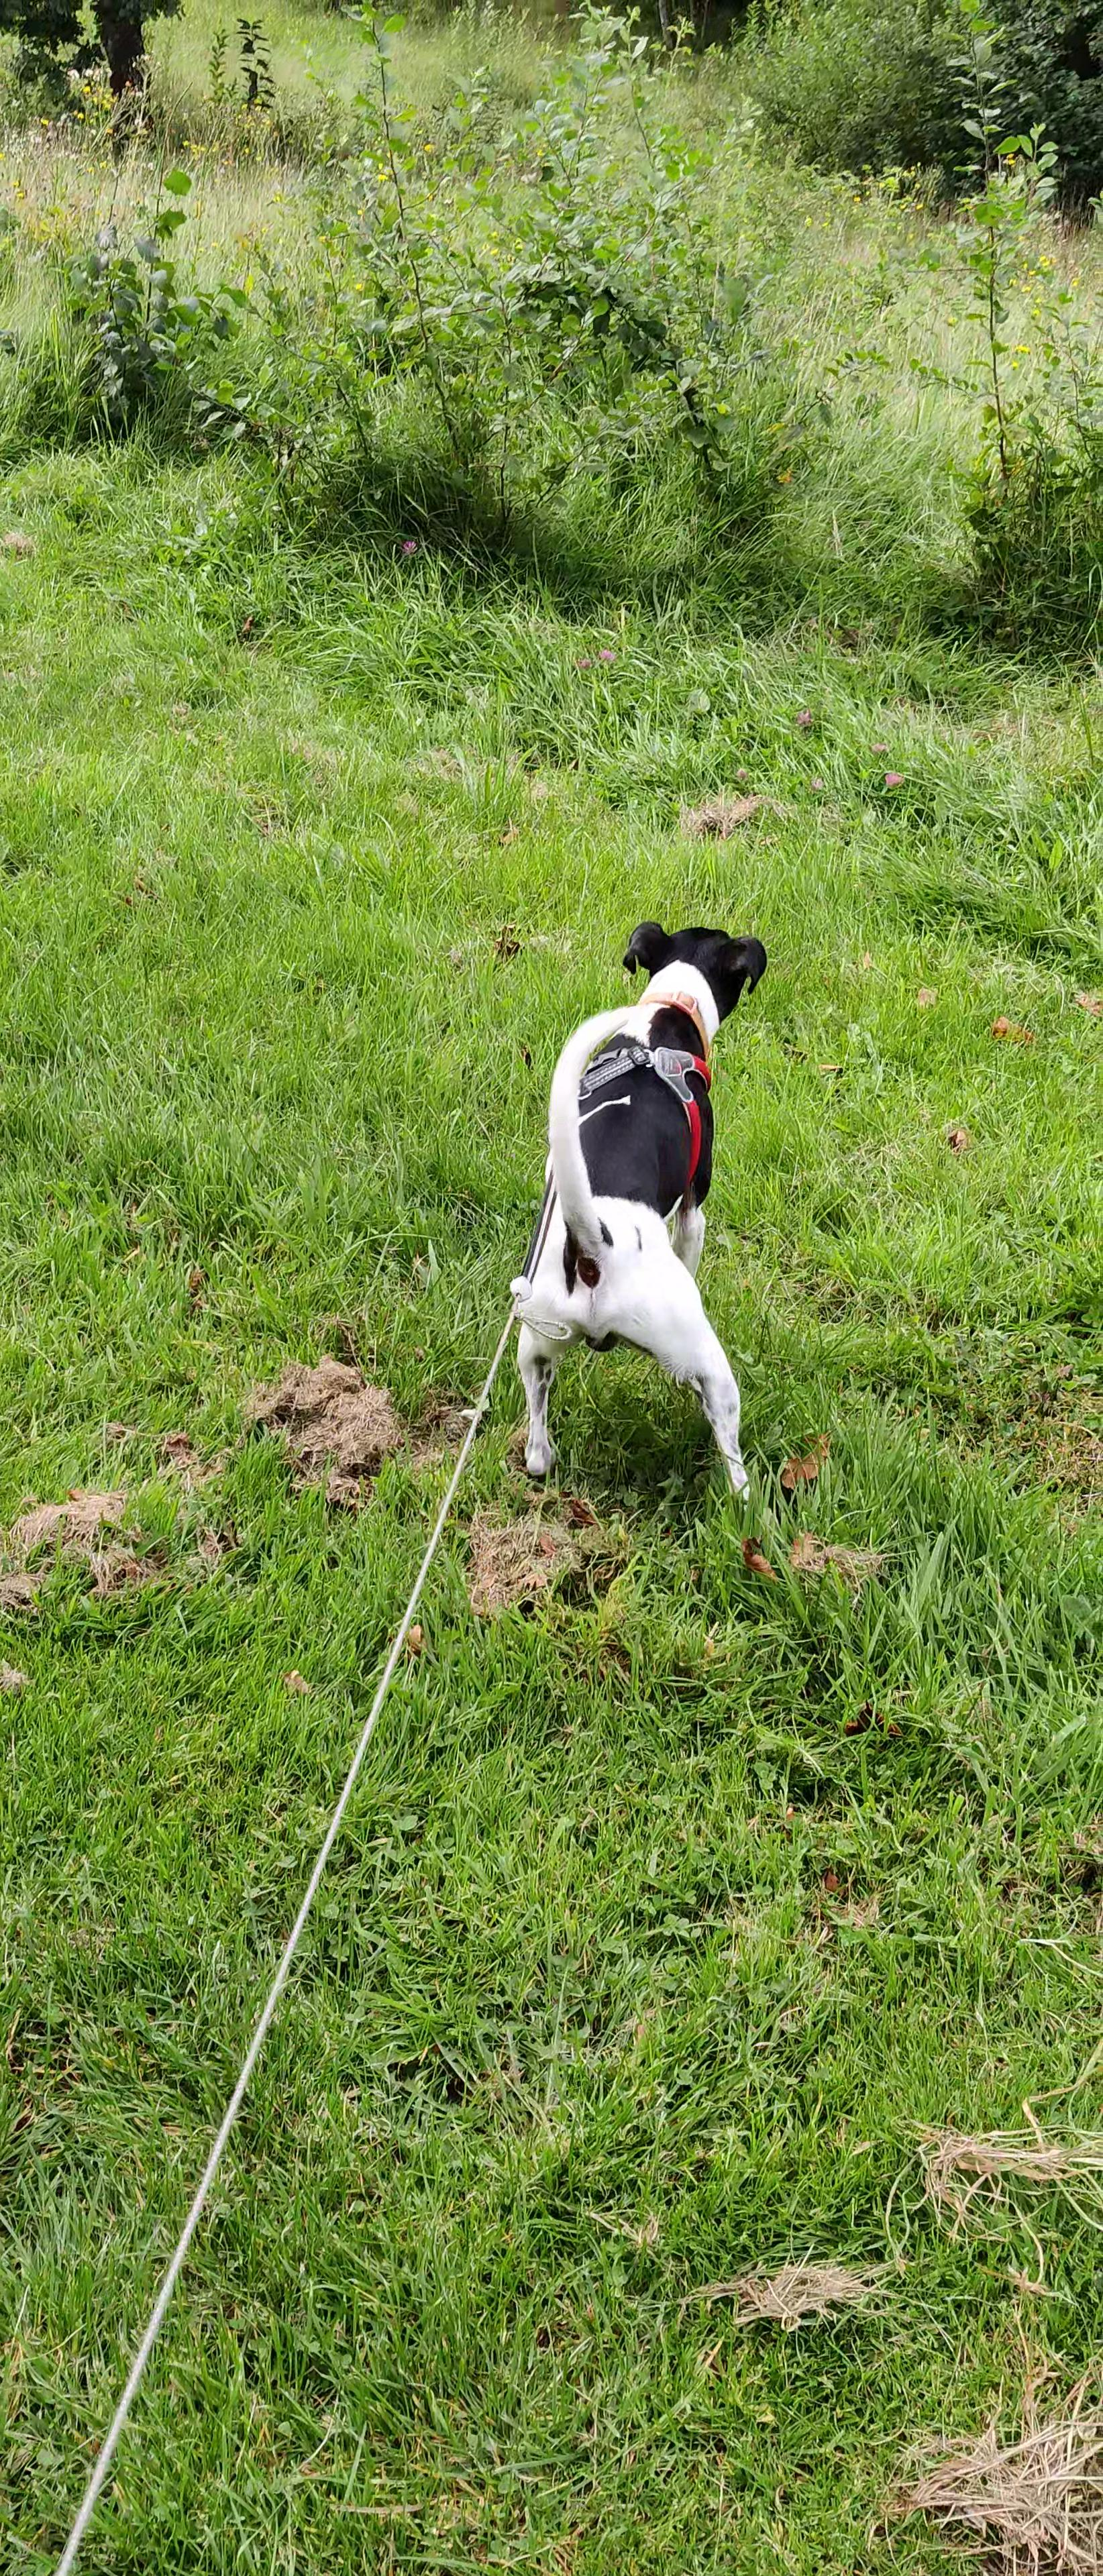Dog: (485, 882, 809, 1531)
